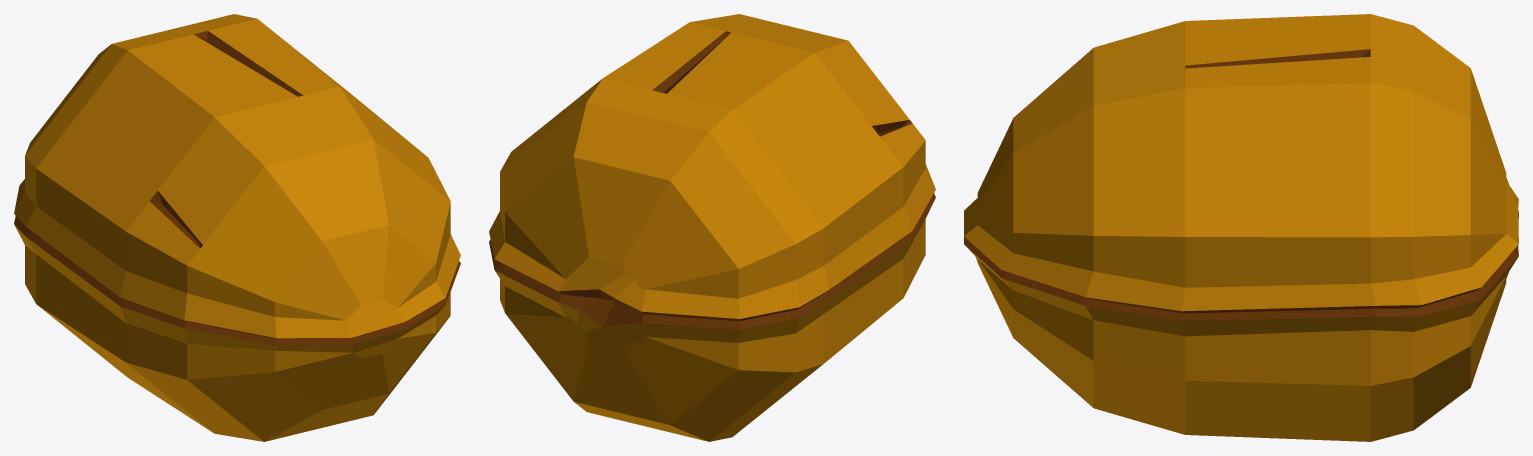
File: walnut01.gltf
3 renders of one model, left to right at view 1: azimuth 30°, elevation 25°; view 2: azimuth 150°, elevation 25°; view 3: azimuth 270°, elevation 25°, orthographic. The views are drawn at different scales.
Parts seen in each view (by area): view 1: Cylinder.001; view 2: Cylinder.001; view 3: Cylinder.001.
Part boxes in pixels (bbox=[...]): Cylinder.001: bbox=[14, 14, 460, 441]; Cylinder.001: bbox=[489, 14, 935, 441]; Cylinder.001: bbox=[964, 14, 1518, 441].
Bounding box in the file's own units: 0.0325 × 0.0309 × 0.0434.
Materials: 1 (1 with a texture image).
